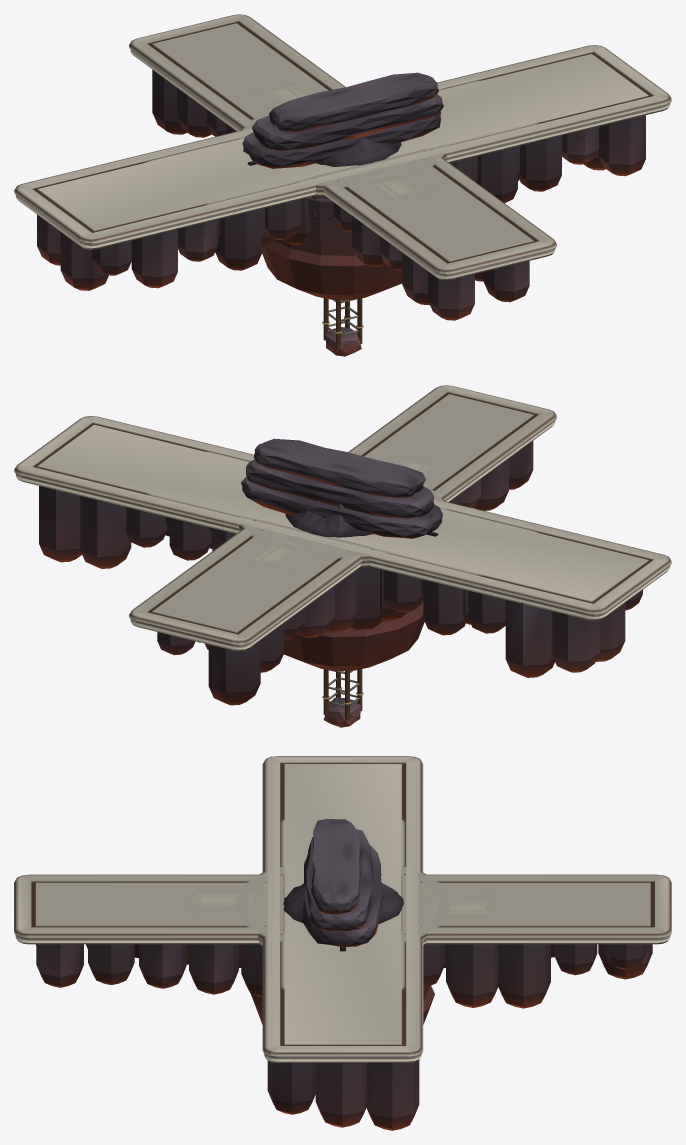
Rendered from volcano-2-D_pVG9KR.glb.
3 renders of one model, top to bottom at view 1: azimuth 30°, elevation 25°; view 2: azimuth 150°, elevation 25°; view 3: azimuth 270°, elevation 25°, orthographic. The views are drawn at different scales.
Parts seen in each view (by area): view 1: block_44x2x10#0, block_9x2x41#0, spout_11x2#0, disc_14x1.5#1, block_4x18x20_ruin#0, truss_14#0, block_26x2x8_grate#0, geyserVent_3#0, block_12.5x2x8#1; view 2: block_44x2x10#0, block_9x2x41#0, spout_11x2#0, disc_14x1.5#1, truss_14#0, block_26x2x8_grate#0, block_4x18x20_ruin#0, geyserVent_3#0; view 3: block_9x2x41#0, block_44x2x10#0, spout_11x2#0, disc_14x1.5#1, block_4x18x20_ruin#0, geyserVent_3#0, block_26x2x8_grate#0.
Boxes of the visible parts, x1,y1,x2,y2 form: block_44x2x10#0: (14, 45, 671, 290); block_9x2x41#0: (129, 14, 556, 320); spout_11x2#0: (242, 72, 443, 168); disc_14x1.5#1: (237, 110, 447, 300); block_4x18x20_ruin#0: (248, 82, 437, 201); truss_14#0: (322, 298, 363, 356); block_26x2x8_grate#0: (145, 80, 540, 247); geyserVent_3#0: (316, 139, 401, 166); block_12.5x2x8#1: (284, 147, 433, 244); block_44x2x10#0: (14, 416, 671, 677); block_9x2x41#0: (129, 385, 556, 705); spout_11x2#0: (241, 438, 442, 538); disc_14x1.5#1: (238, 486, 448, 670); truss_14#0: (322, 669, 363, 727); block_26x2x8_grate#0: (145, 451, 540, 624); block_4x18x20_ruin#0: (248, 453, 437, 571); geyserVent_3#0: (285, 500, 372, 537); block_9x2x41#0: (14, 874, 671, 1008); block_44x2x10#0: (262, 756, 423, 1130); spout_11x2#0: (302, 819, 383, 947); disc_14x1.5#1: (235, 866, 450, 1024); block_4x18x20_ruin#0: (187, 892, 498, 915); geyserVent_3#0: (283, 878, 403, 923); block_26x2x8_grate#0: (280, 819, 405, 990).
Size of the model in its own units: 44 by 18.4 by 41.
